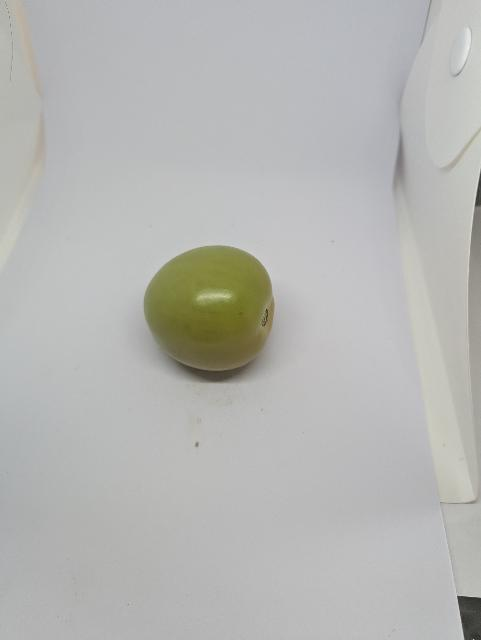green: (129, 237, 295, 404)
